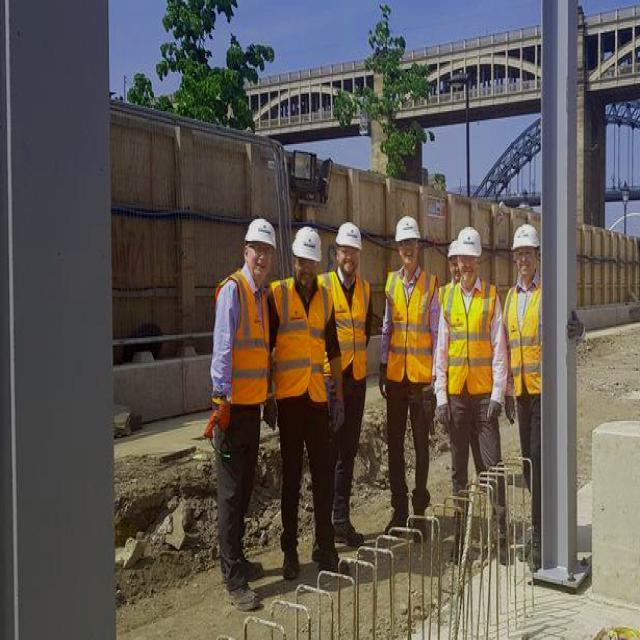hand_glove: (560, 292, 589, 346), (208, 391, 237, 435), (329, 388, 353, 440), (413, 383, 435, 429), (502, 385, 524, 429), (483, 397, 504, 429), (435, 401, 447, 427)
head_helmet: (294, 224, 322, 263), (243, 218, 278, 247), (335, 221, 364, 250), (456, 224, 482, 256), (512, 222, 540, 250), (394, 216, 422, 242)
person: (211, 217, 273, 614), (272, 227, 340, 573), (445, 227, 506, 557), (380, 217, 437, 538), (332, 222, 376, 543), (505, 222, 542, 571)
shoes: (222, 575, 264, 613), (223, 550, 267, 583), (331, 517, 370, 550), (316, 547, 354, 578), (280, 542, 304, 583), (383, 505, 411, 539)
vest: (210, 271, 272, 408), (272, 274, 332, 404), (444, 282, 498, 396), (384, 266, 437, 382), (504, 272, 545, 394), (322, 272, 369, 376)
